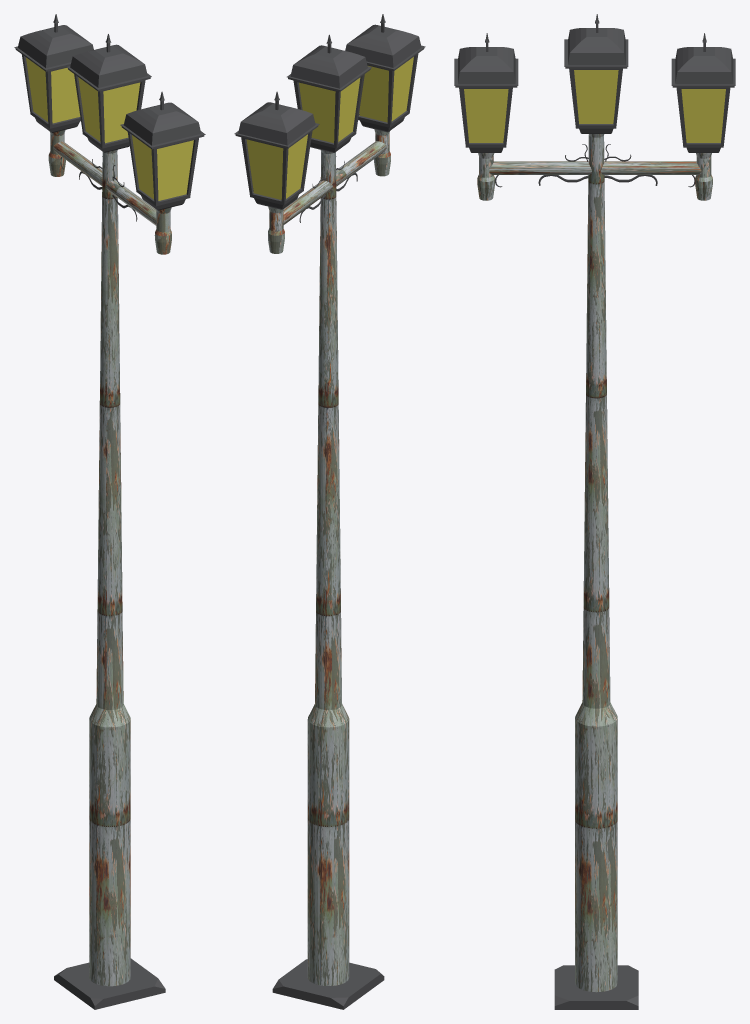
Rendered from lantaarn2.gltf.
The picture shows the model from 3 angles, left to right: view 1: azimuth 30°, elevation 25°; view 2: azimuth 150°, elevation 25°; view 3: azimuth 270°, elevation 25°; orthographic projection. The views are drawn at different scales.
Parts seen in each view (by area): view 1: Cylinder.017, Cube.004, Cube.011, Cube.008, Cube.005, Cube.006, Cube.012, Cube.007, Cylinder.016, Cylinder.010, Cylinder.009; view 2: Cylinder.017, Cube.008, Cube.011, Cube.004, Cube.005, Cube.012, Cube.007, Cube.006, Cylinder.016, Cylinder.009, Cylinder.010; view 3: Cylinder.017, Cube.004, Cube.011, Cube.008, Cylinder.016, Cube.005, Cube.012, Cube.007, Cube.006, Cylinder.009, Cylinder.010.
Boxes of the visible parts, x1,y1,x2,y2 form: Cylinder.017: [89, 149, 130, 986]; Cube.004: [127, 132, 198, 206]; Cube.011: [74, 74, 145, 148]; Cube.008: [22, 54, 80, 128]; Cube.005: [54, 958, 165, 1009]; Cube.006: [120, 91, 205, 149]; Cube.012: [67, 34, 151, 91]; Cube.007: [14, 14, 93, 71]; Cylinder.016: [53, 141, 156, 225]; Cylinder.010: [155, 207, 171, 254]; Cylinder.009: [48, 130, 65, 176]; Cylinder.017: [307, 150, 349, 985]; Cube.008: [241, 131, 312, 205]; Cube.011: [293, 74, 364, 148]; Cube.004: [358, 54, 418, 127]; Cube.005: [272, 959, 384, 1009]; Cube.012: [287, 34, 371, 91]; Cube.007: [234, 91, 319, 148]; Cube.006: [345, 14, 425, 70]; Cylinder.016: [283, 141, 386, 224]; Cylinder.009: [268, 206, 284, 253]; Cylinder.010: [374, 129, 390, 176]; Cylinder.017: [575, 134, 617, 992]; Cube.004: [459, 87, 512, 147]; Cube.011: [569, 68, 622, 128]; Cube.008: [676, 87, 730, 147]; Cylinder.016: [489, 161, 701, 174]; Cube.005: [554, 965, 638, 1009]; Cube.012: [564, 14, 628, 68]; Cube.007: [671, 33, 735, 87]; Cube.006: [454, 33, 518, 87]; Cylinder.009: [695, 153, 712, 200]; Cylinder.010: [477, 153, 494, 200].
Bounding box in the file's own units: 0.2532 × 3.25 × 0.8487.
4 materials, 1 textured.
